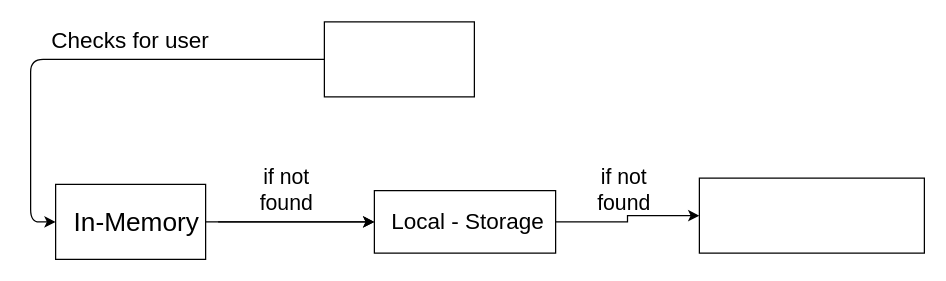
Some shapes in this 946 by 281 pixel diagram are drawn without their labels. The box of each missing label's shape, as (x1, y1, x2, y2) in pixels:
Backend (firestore): (698, 177, 924, 253)
Extension: (323, 21, 474, 97)
